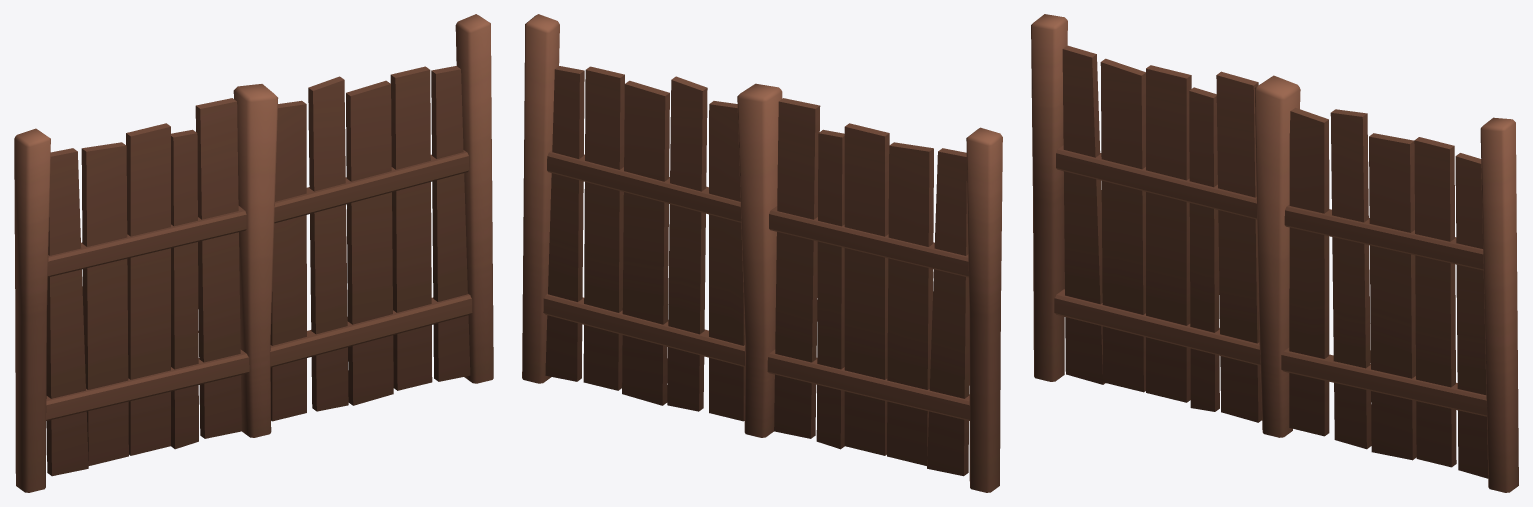
Rendered from WallFence_2_2_D.fbx.
3 renders of one model, left to right at view 1: azimuth 30°, elevation 25°; view 2: azimuth 150°, elevation 25°; view 3: azimuth 330°, elevation 25°, orthographic.
Visible parts, largest first — view 1: WallFence_2_2_D; view 2: WallFence_2_2_D; view 3: WallFence_2_2_D.
Boxes of the visible parts, <box> form: WallFence_2_2_D: <box>14,14,493,492</box>; WallFence_2_2_D: <box>522,14,1002,492</box>; WallFence_2_2_D: <box>1031,14,1518,492</box>.
Size of the model in its own units: 209 by 152 by 14.3.
